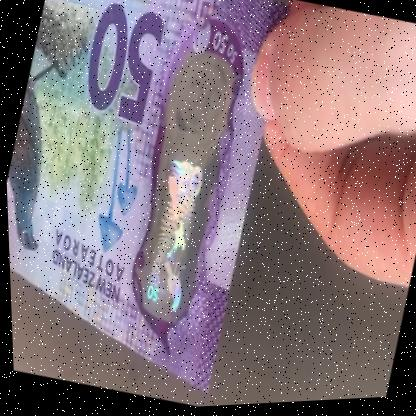50B: (126, 70, 239, 325)
